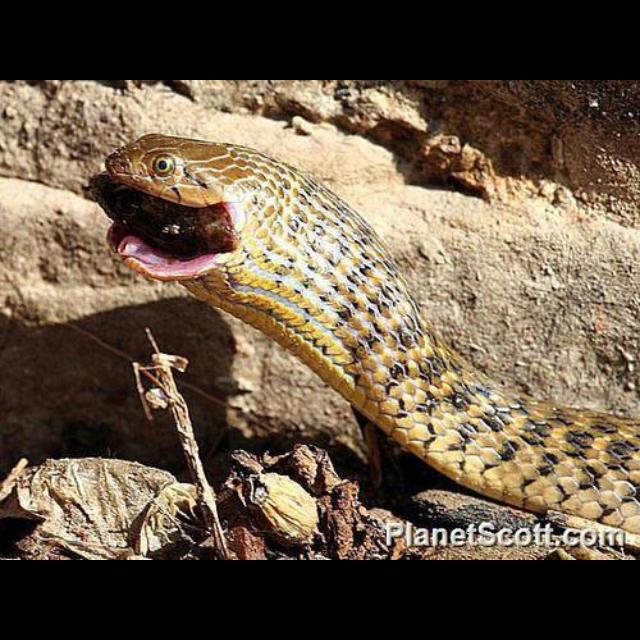snake: (88, 134, 640, 536)
